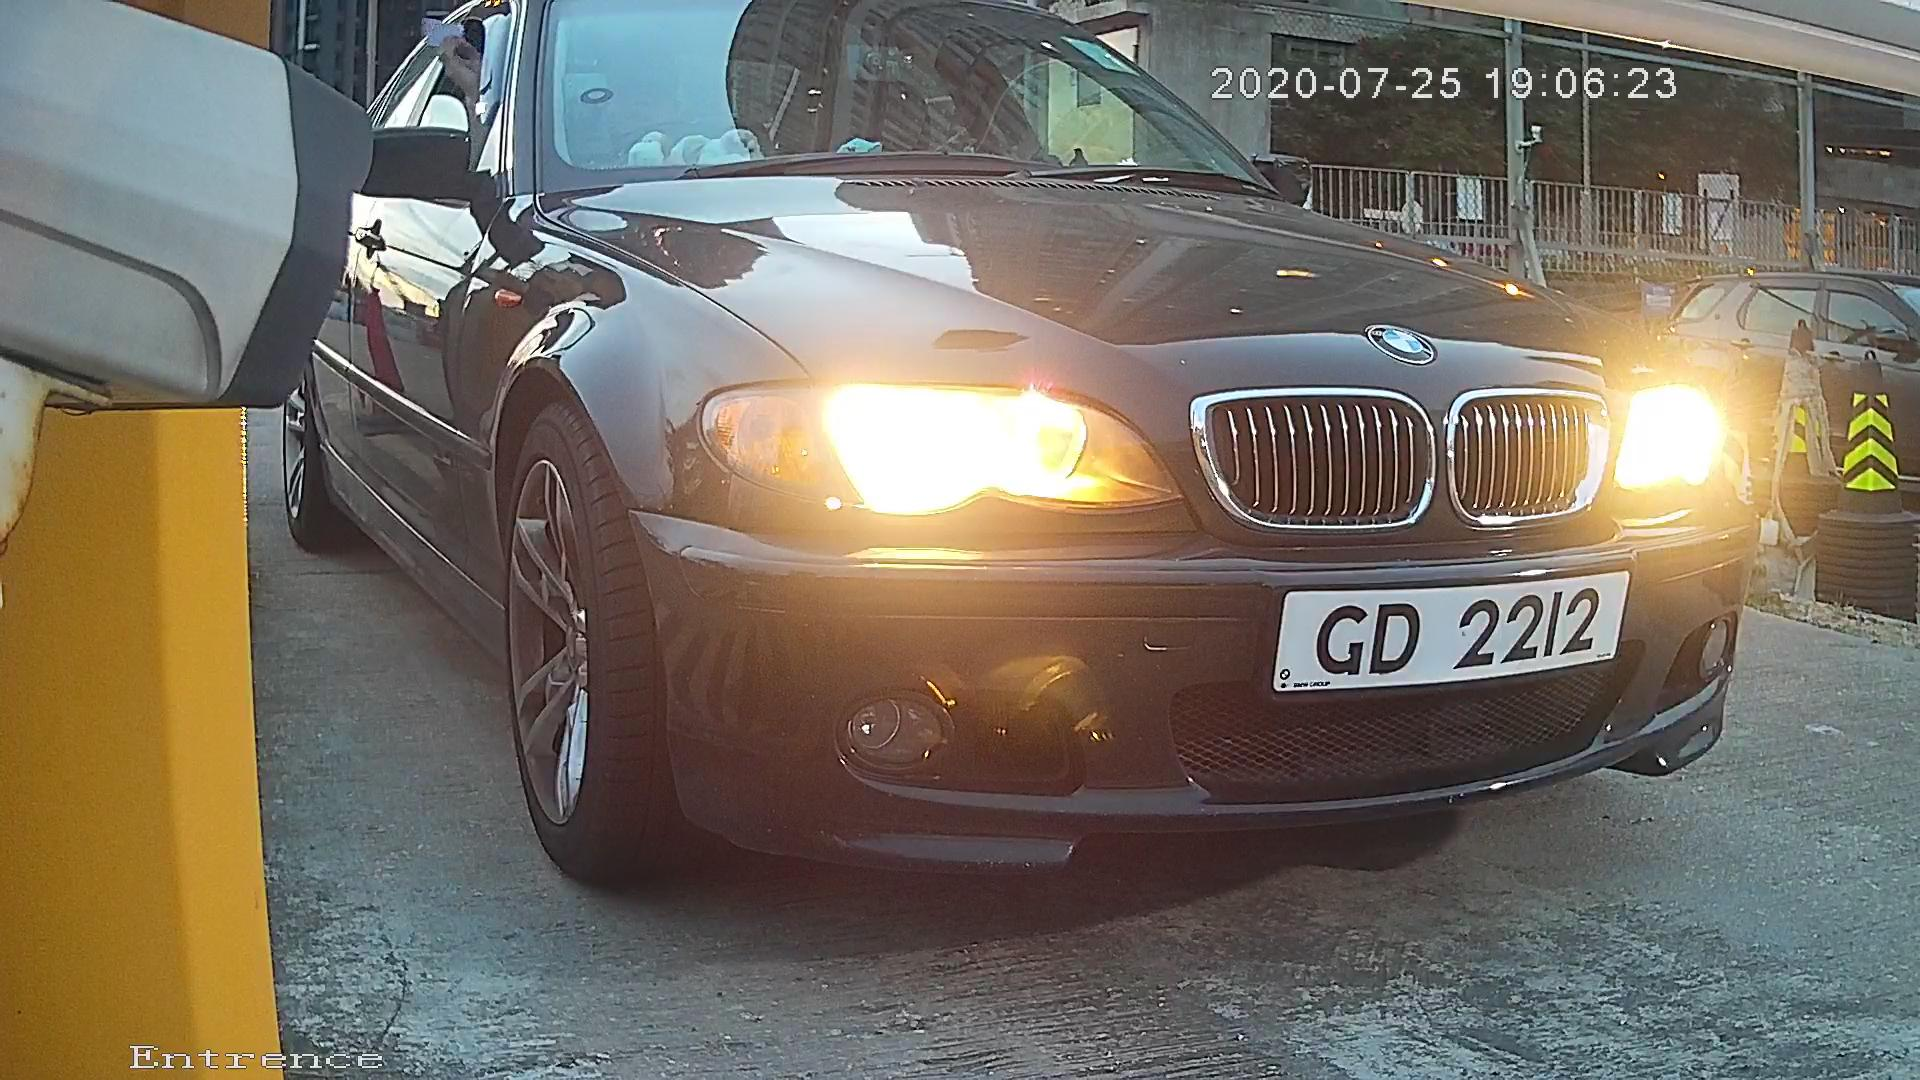Car: (198, 5, 1895, 945)
License Plate: (1235, 555, 1646, 709)
